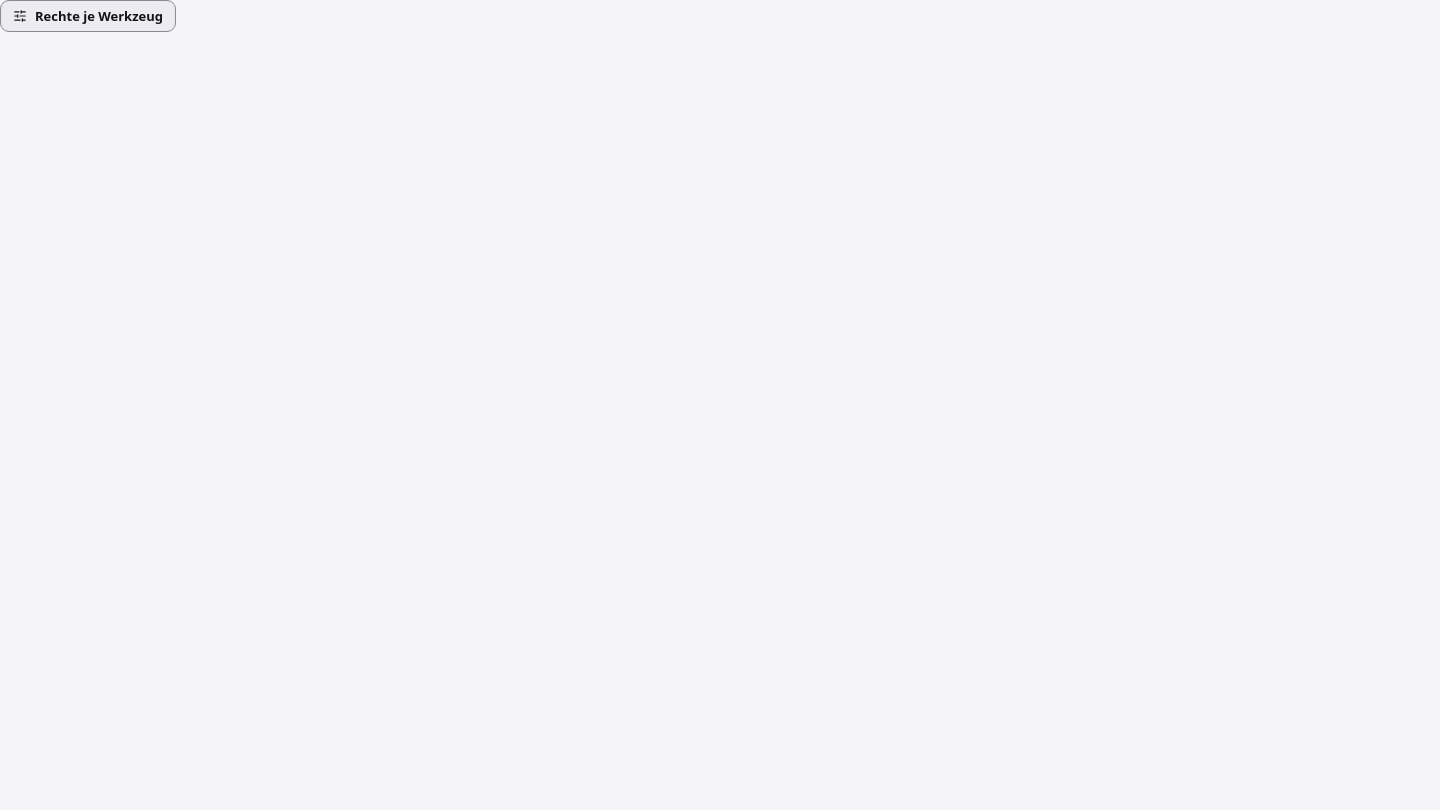
Test: Rechte je Werkzeug › says why a change was refused and shows the right the server keeps
Step 1. Click the button "Rechte je Werkzeug" → point(88, 16), box x1=0 y1=0 x2=176 y2=32
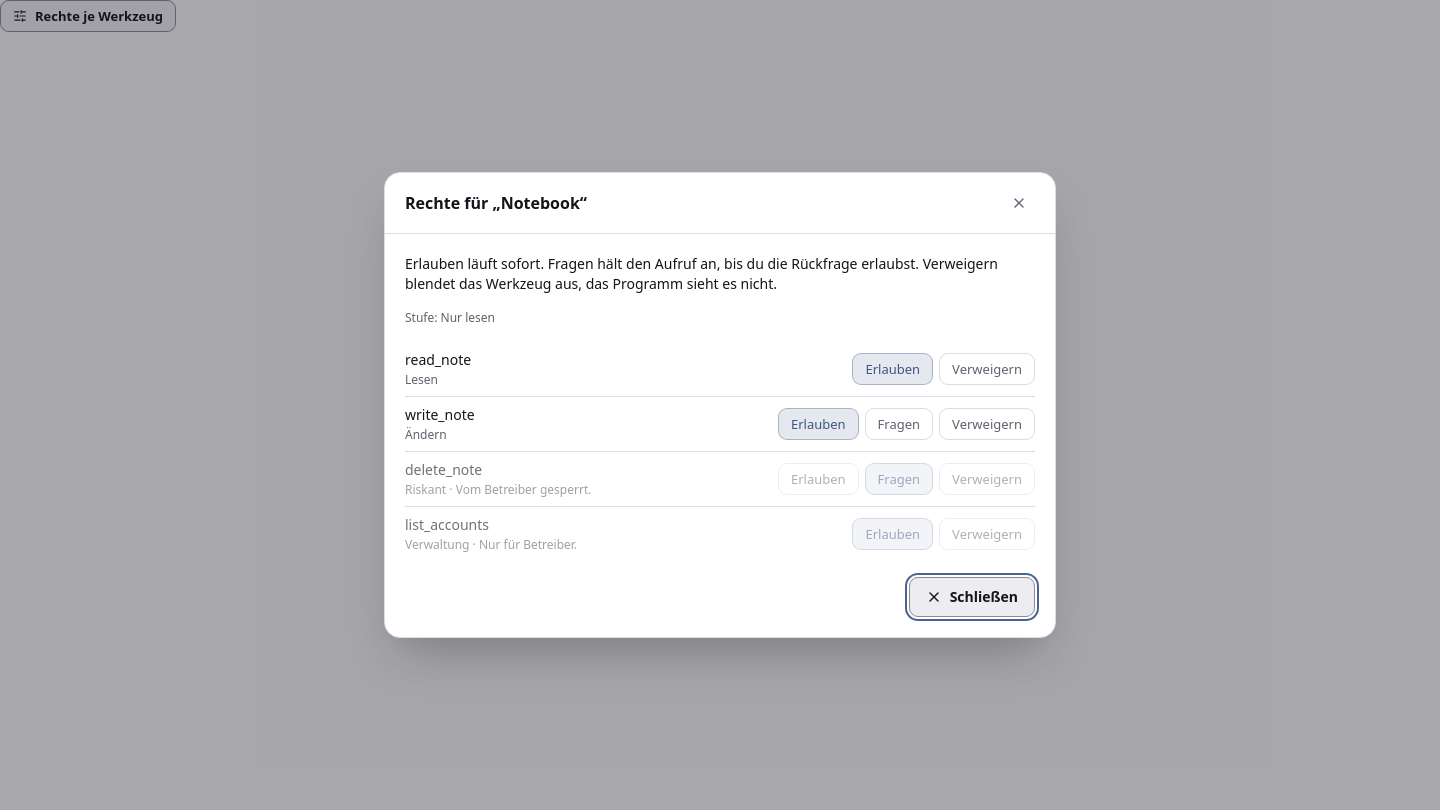
Result: the radio button labelled "Verweigern" in the row of "write_note" is shown
Step 2. Click the radio button labelled "Verweigern" in the row of "write_note" → point(987, 424), box x1=939 y1=408 x2=1035 y2=440
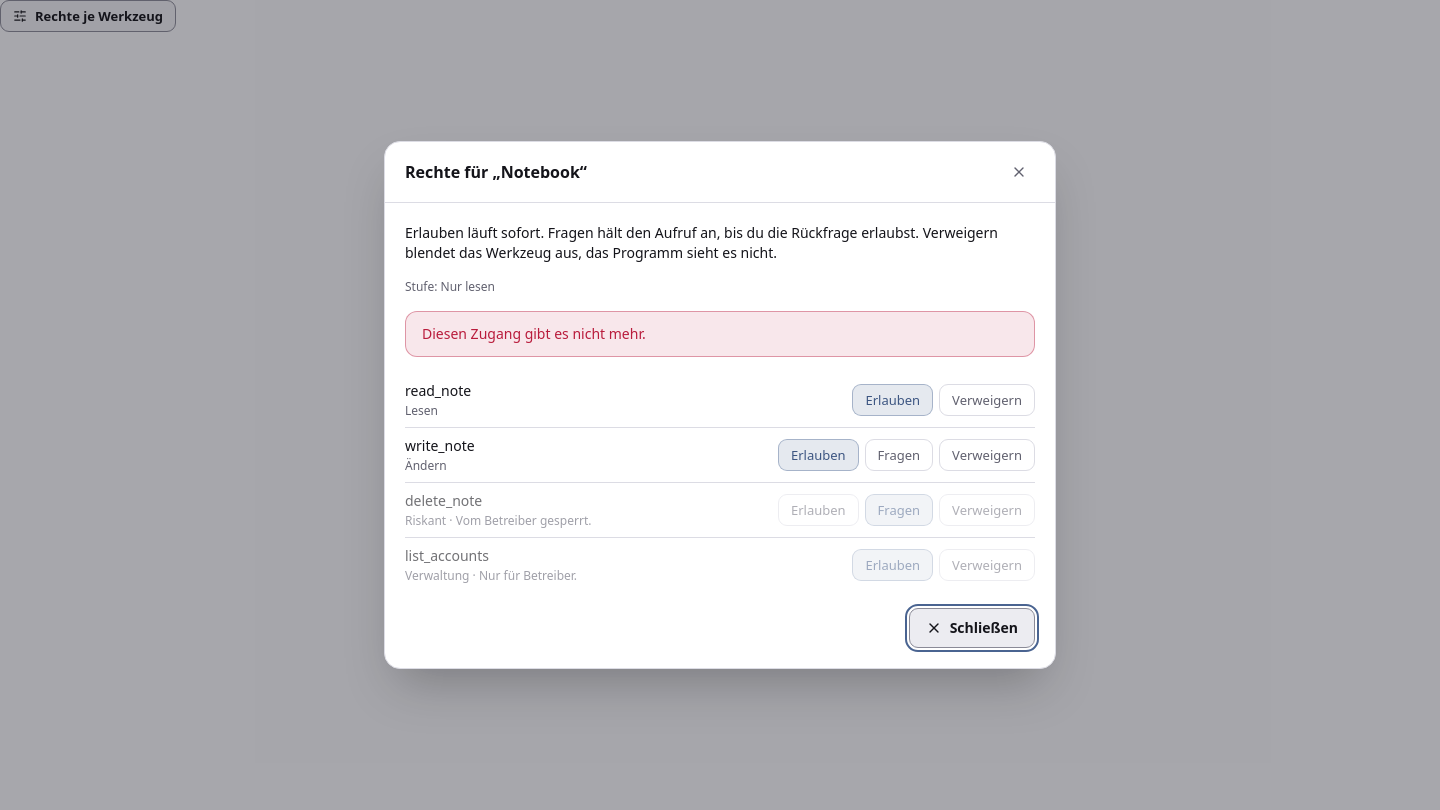
Result: the message with test id "tool-rights-problem" reads "Diesen Zugang gibt es nicht mehr." at x1=422 y1=324 x2=646 y2=343
